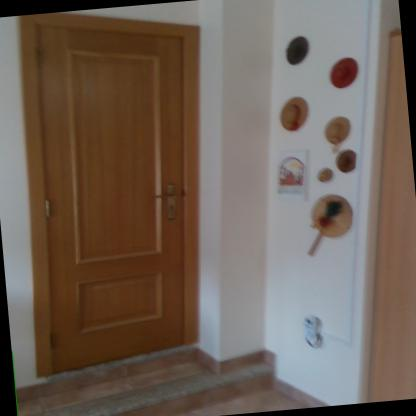closed: (1, 10, 244, 372)
